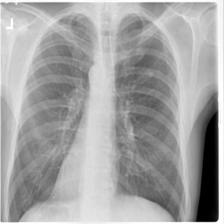tuberculosis: (4, 9, 188, 224)
